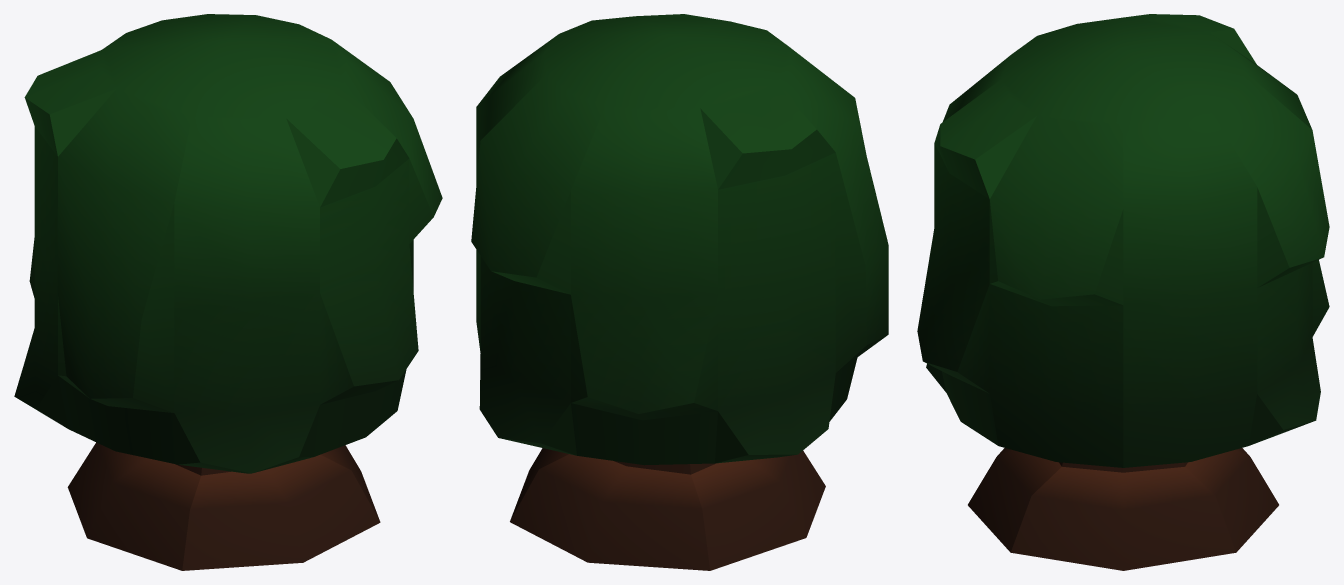
The model's file is BlueBerryLarge.fbx.
3 views of the same model, side by side, from view 1: azimuth 30°, elevation 25°; view 2: azimuth 150°, elevation 25°; view 3: azimuth 270°, elevation 25° (orthographic). The views are drawn at different scales.
Visible parts, largest first — view 1: BlueBerryLarge; view 2: BlueBerryLarge; view 3: BlueBerryLarge.
Part boxes in pixels (<box>): BlueBerryLarge: <box>14,14,442,570</box>; BlueBerryLarge: <box>471,14,888,570</box>; BlueBerryLarge: <box>917,14,1329,570</box>.
Size of the model in its own units: 175 by 214 by 175.
